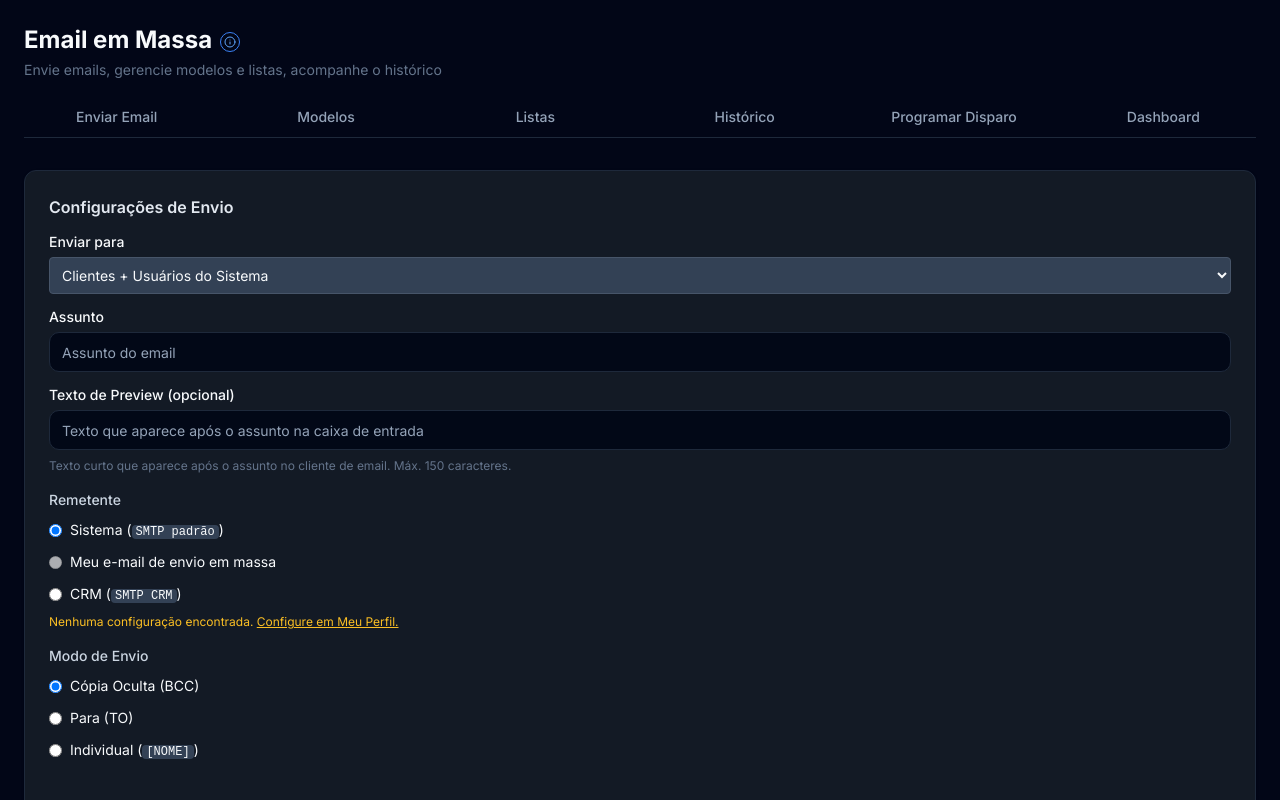
Test: EmailMassaPage › carrega modelos e os exibe na aba Modelos
The image size is (1280, 800).
Click the tab "Modelos": (326, 120) x1=233 y1=104 x2=419 y2=137
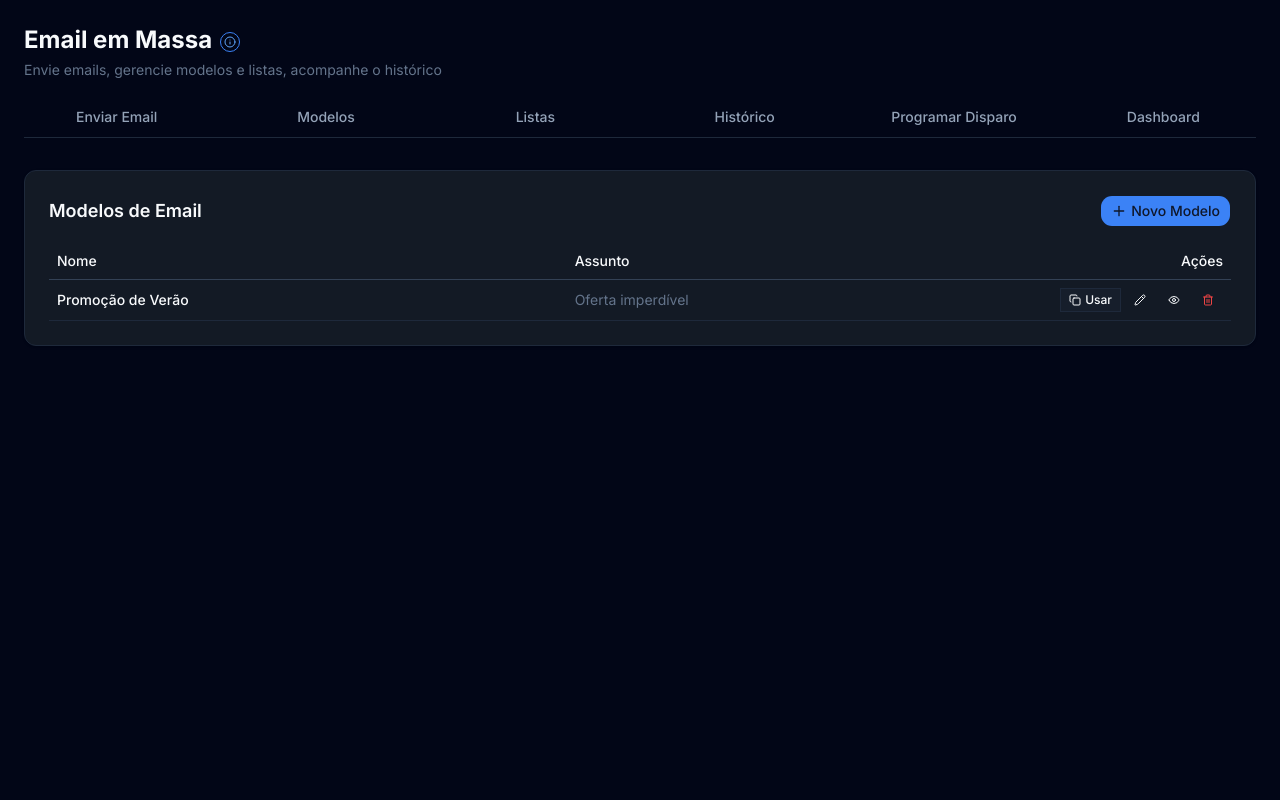
Check: the text "Promoção de Verão" is shown, box x1=49 y1=280 x2=567 y2=320
Check: the text "Oferta imperdível" is shown, box x1=567 y1=280 x2=1023 y2=320
